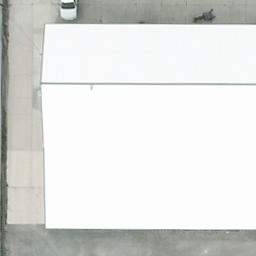car: (60, 0, 78, 20)
